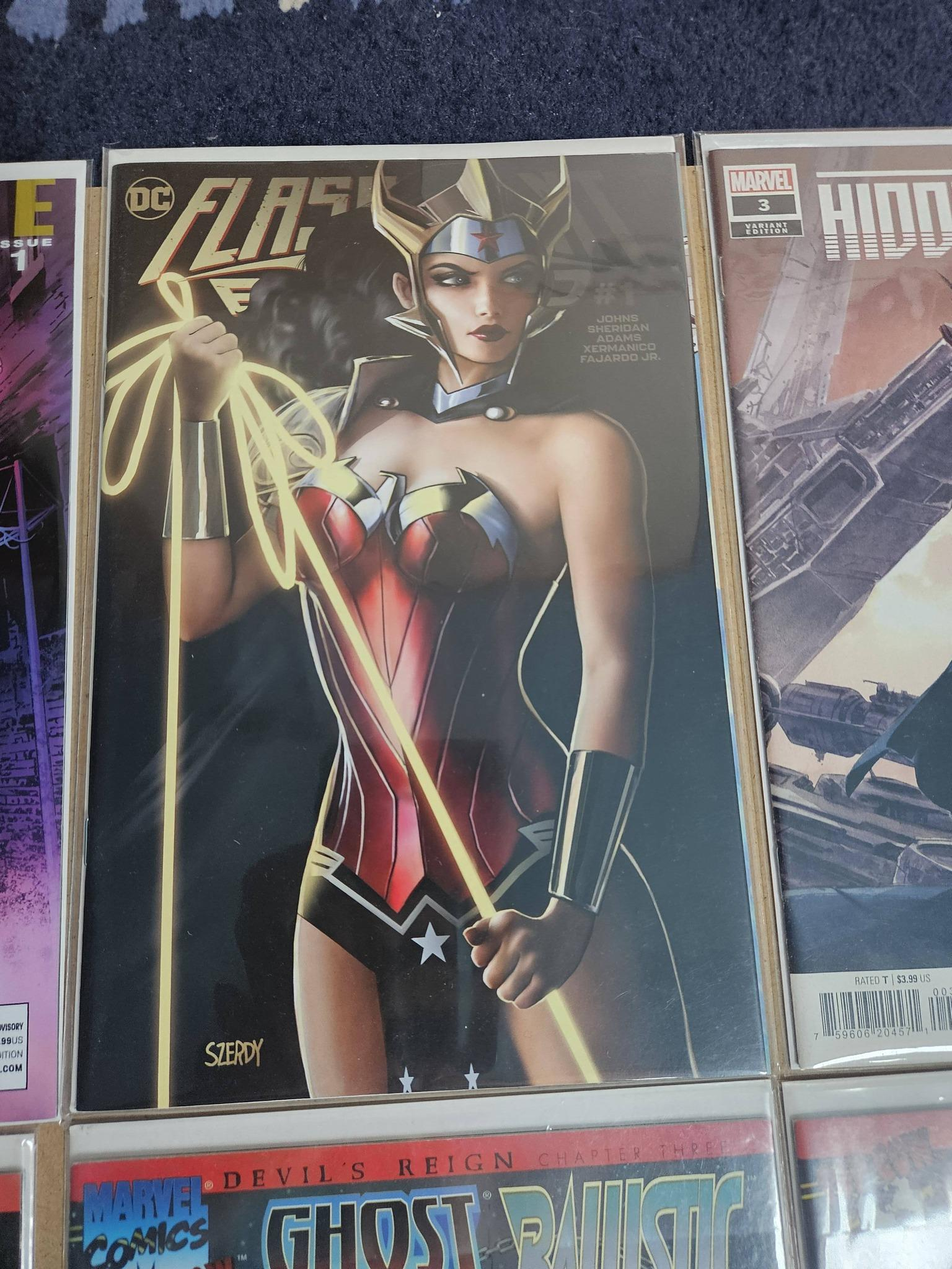comic: (52, 136, 765, 1110)
